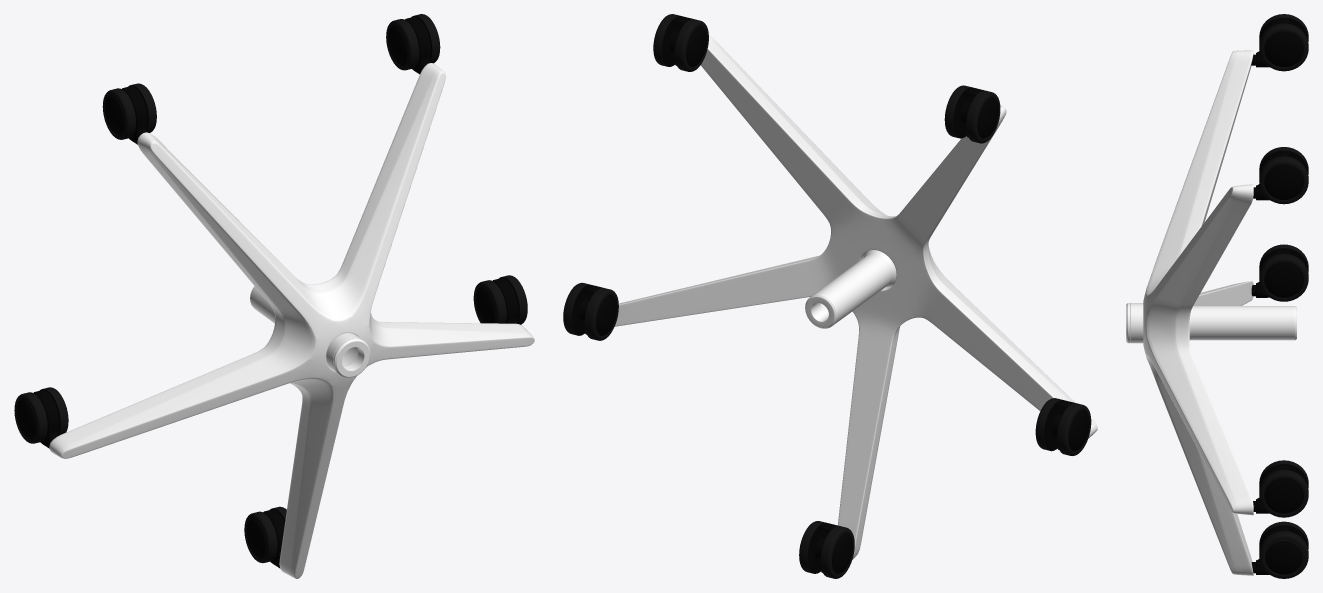
Rendered from DeskChairBottom.obj.
The picture shows the model from 3 angles, left to right: view 1: azimuth 30°, elevation 25°; view 2: azimuth 150°, elevation 25°; view 3: azimuth 270°, elevation 25°; orthographic projection. The views are drawn at different scales.
Visible parts, largest first — view 1: DeskChairBottom; view 2: DeskChairBottom; view 3: DeskChairBottom.
Part boxes in pixels (x1,y1,x2,y2): DeskChairBottom: (14,14,534,578); DeskChairBottom: (563,14,1097,578); DeskChairBottom: (1126,14,1308,578).
Bounding box in the file's own units: 70.79 × 69.1 × 23.41.
